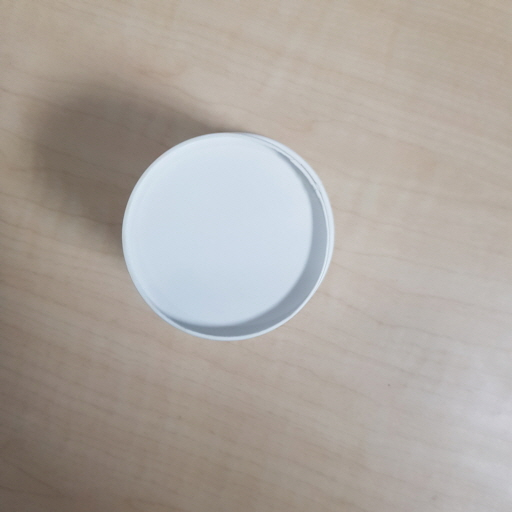Paper_1: (123, 130, 334, 342)
